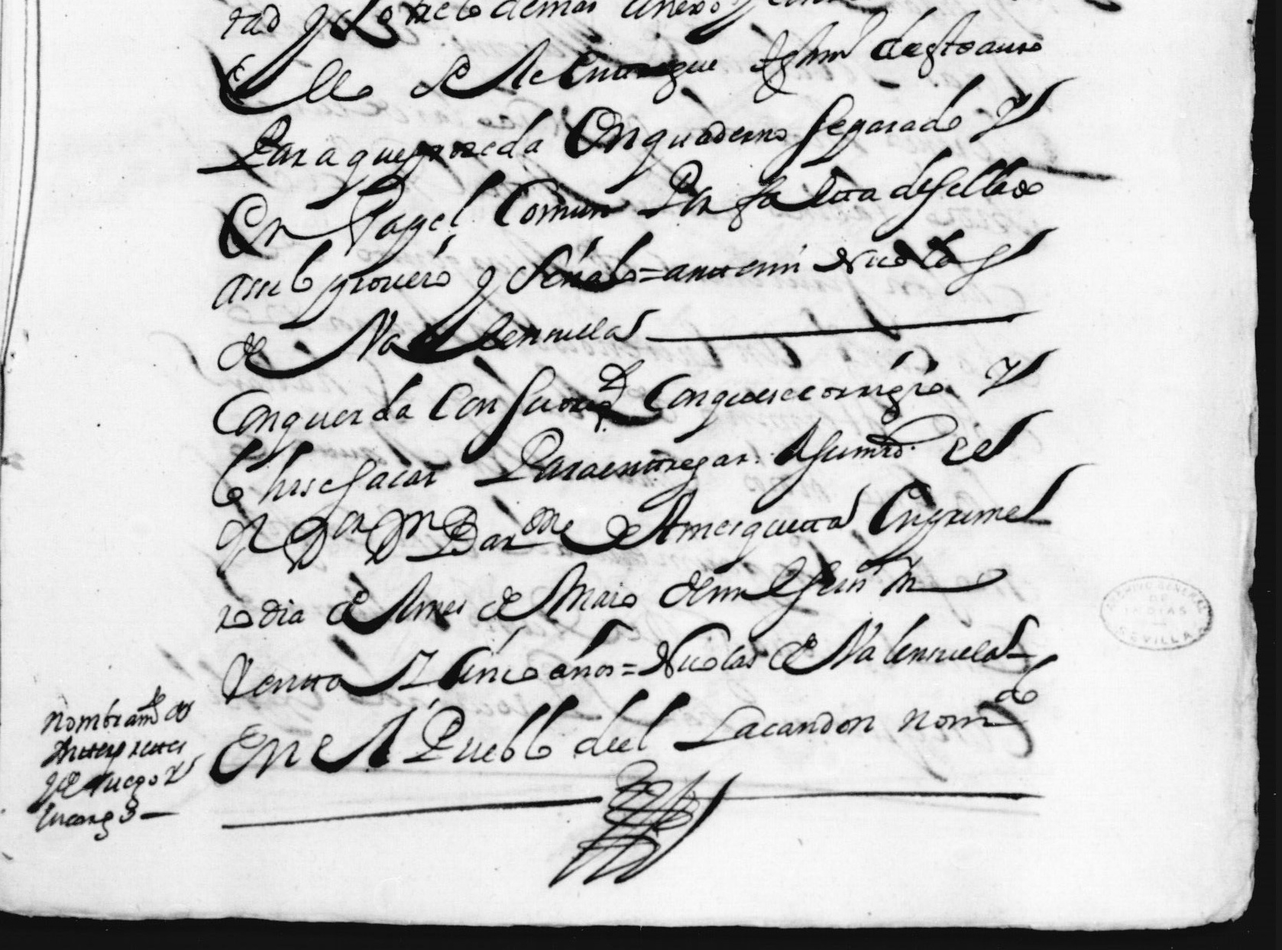lacandon: (673, 706, 875, 751)
